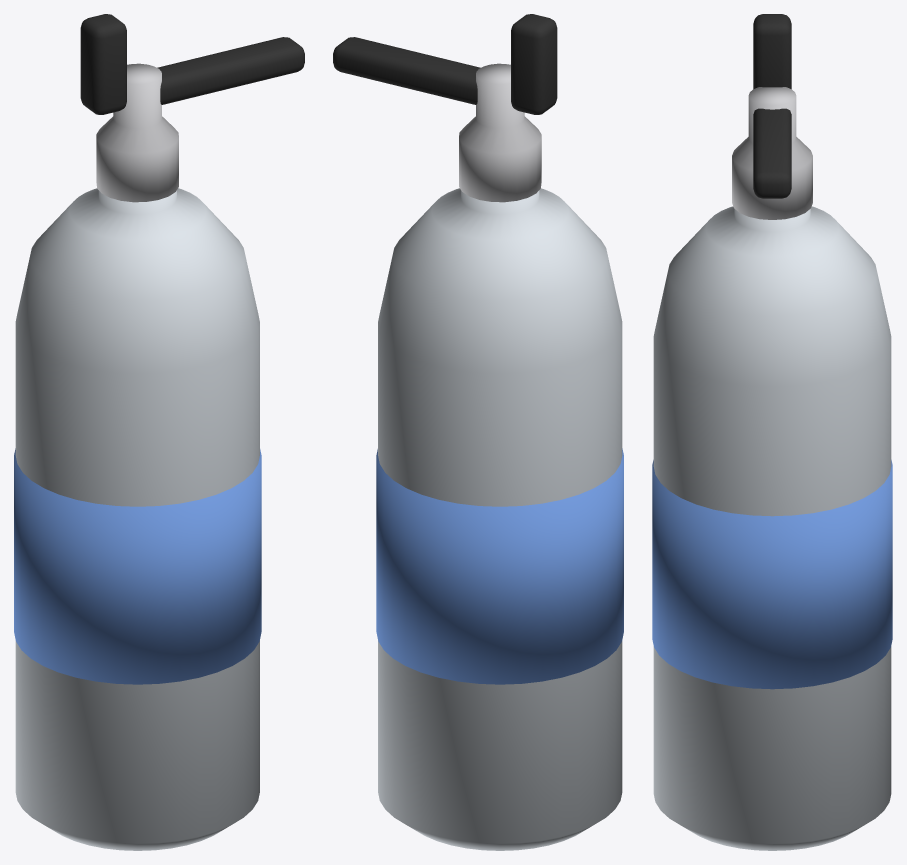
The model's file is SM_LaughGas.glb.
The picture shows the model from 3 angles, left to right: view 1: azimuth 30°, elevation 25°; view 2: azimuth 150°, elevation 25°; view 3: azimuth 270°, elevation 25°; orthographic projection. The views are drawn at different scales.
Visible parts, largest first — view 1: SM_LaughGas; view 2: SM_LaughGas; view 3: SM_LaughGas.
Part boxes in pixels (<box>): SM_LaughGas: <box>14,14,304,850</box>; SM_LaughGas: <box>333,14,623,850</box>; SM_LaughGas: <box>652,14,892,850</box>.
Bounding box in the file's own units: 0.0633 × 0.18 × 0.0506.
